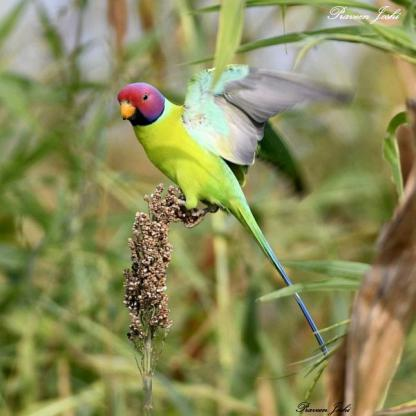Burung: (117, 63, 329, 356)
